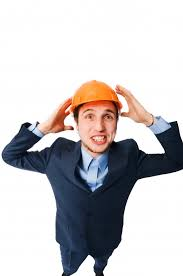Person_wearing_helmet: (64, 76, 129, 118)
